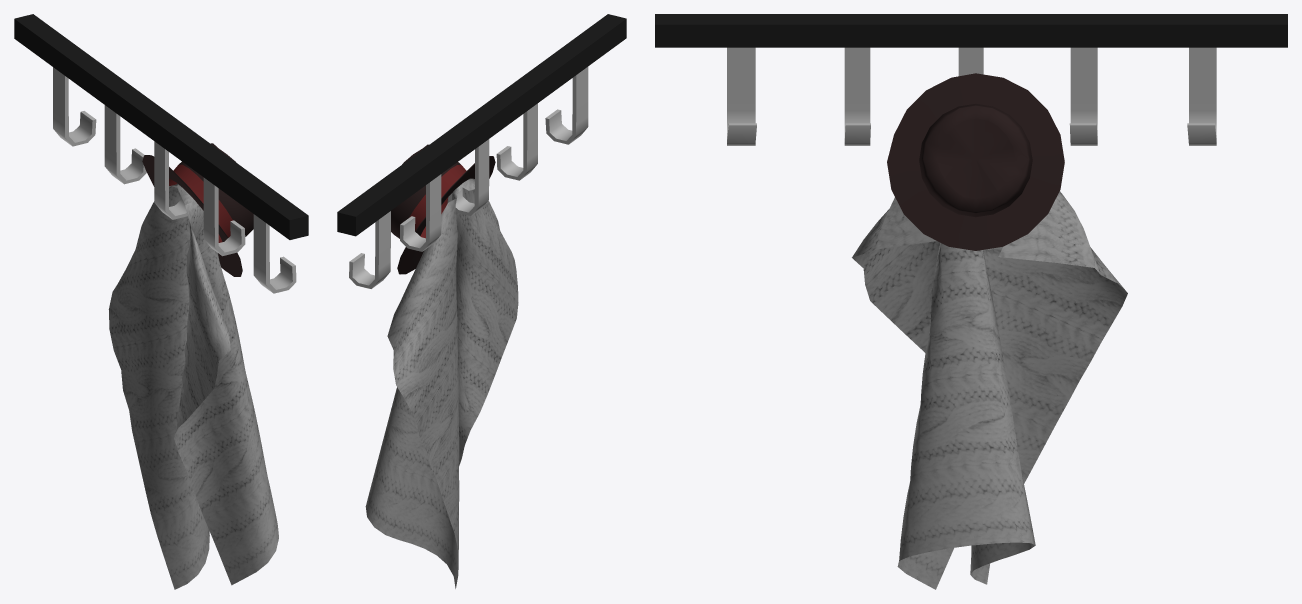
Rendered from coat_hanger.glb.
The picture shows the model from 3 angles, left to right: view 1: azimuth 30°, elevation 25°; view 2: azimuth 150°, elevation 25°; view 3: azimuth 270°, elevation 25°; orthographic projection. The views are drawn at different scales.
Parts seen in each view (by area): view 1: pPlane1, pCube1, pCylinder1; view 2: pPlane1, pCube1, pCylinder1; view 3: pPlane1, pCube1, pCylinder1.
Part boxes in pixels (x1=…): pPlane1: x1=108, y1=183, x2=278, y2=589; pCube1: x1=14, y1=14, x2=308, y2=293; pCylinder1: x1=142, y1=143, x2=253, y2=276; pPlane1: x1=365, y1=178, x2=518, y2=588; pCube1: x1=337, y1=14, x2=626, y2=288; pCylinder1: x1=391, y1=144, x2=495, y2=274; pPlane1: x1=852, y1=191, x2=1127, y2=589; pCube1: x1=655, y1=14, x2=1287, y2=145; pCylinder1: x1=887, y1=73, x2=1064, y2=250.
Bounding box in the file's own units: 5.96 × 24.17 × 25.
Materials: 6 (1 with a texture image).
